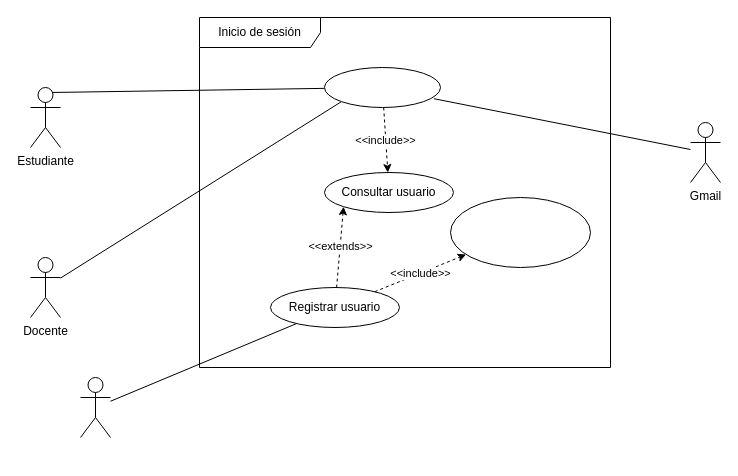
This 738x476 diagram has some shape labels left out. The shapes that lost their labels are listed below. From the top down, each one's centre as x and y in pixels, then its label:
At [382,87]: "Iniciar sesión".
At [520,232]: "Registrar rol de estudiante o docente".
At [95,407]: "Administrador".
